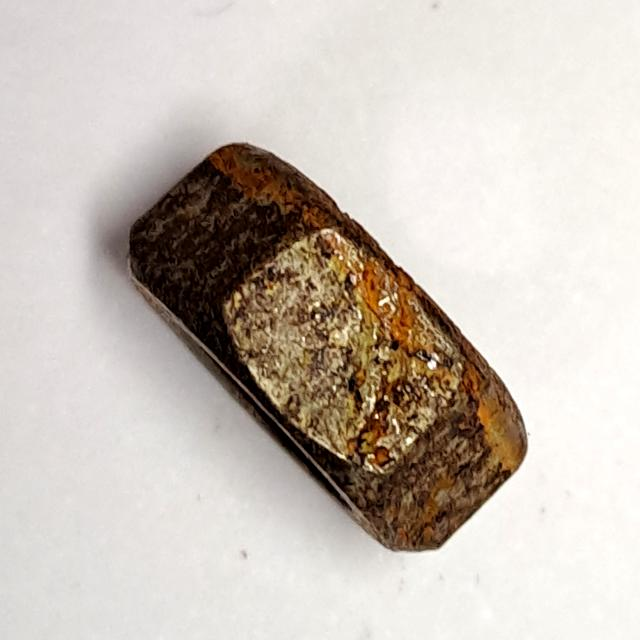Side_Rust: (113, 128, 538, 567)
